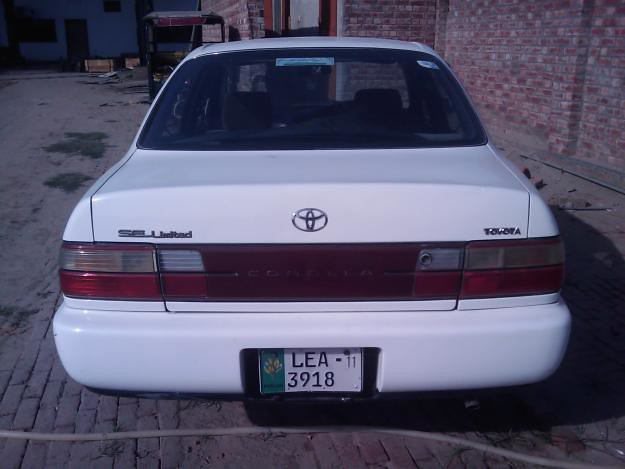car: (51, 28, 578, 416)
